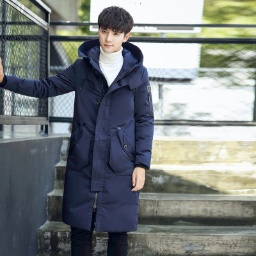face: (96, 6, 134, 51)
